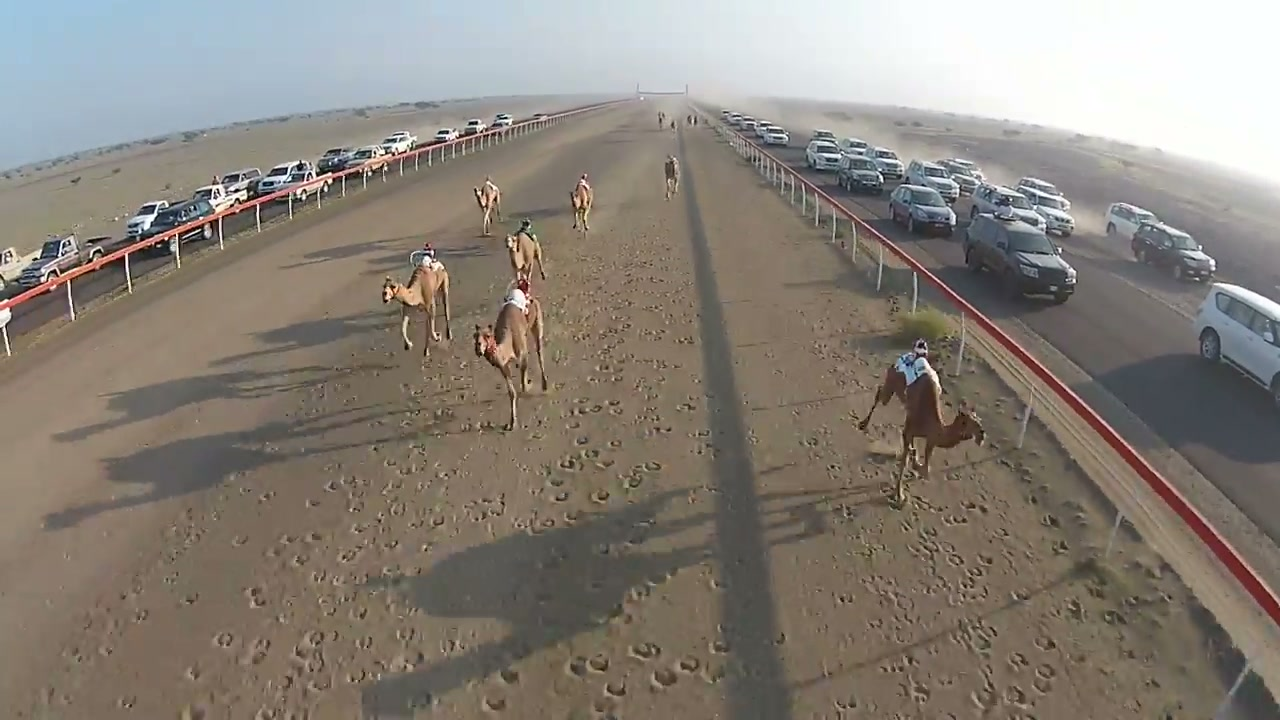animal_footprint: (48, 138, 1198, 717), (564, 629, 724, 715), (565, 653, 612, 677), (240, 637, 271, 666), (1032, 663, 1057, 695), (591, 694, 621, 719), (628, 642, 660, 660), (651, 667, 677, 689), (179, 702, 212, 719), (698, 664, 726, 684), (832, 694, 861, 712), (244, 586, 267, 608), (675, 656, 702, 674), (586, 654, 611, 673), (482, 694, 507, 712), (603, 680, 627, 698), (565, 656, 586, 676), (213, 631, 235, 649), (498, 667, 519, 684), (590, 488, 610, 504), (708, 640, 729, 654)
